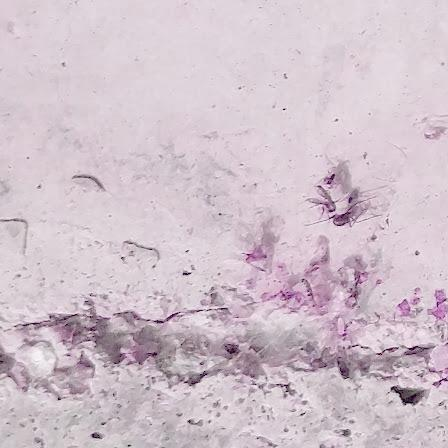crack: (111, 305, 230, 327), (0, 305, 82, 335), (341, 341, 437, 359)
spalling: (0, 286, 264, 406), (280, 327, 377, 402), (200, 272, 263, 330), (384, 382, 431, 410)
